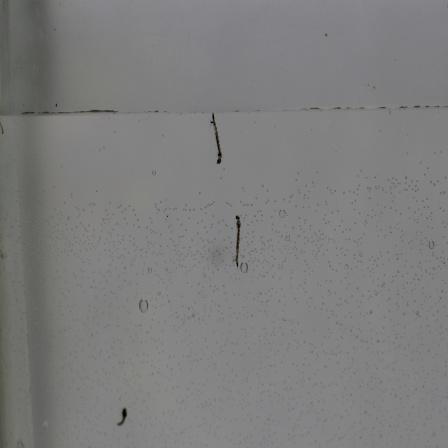Jentik-Nyamuk: (206, 110, 227, 169), (232, 210, 248, 269), (116, 404, 129, 429)
